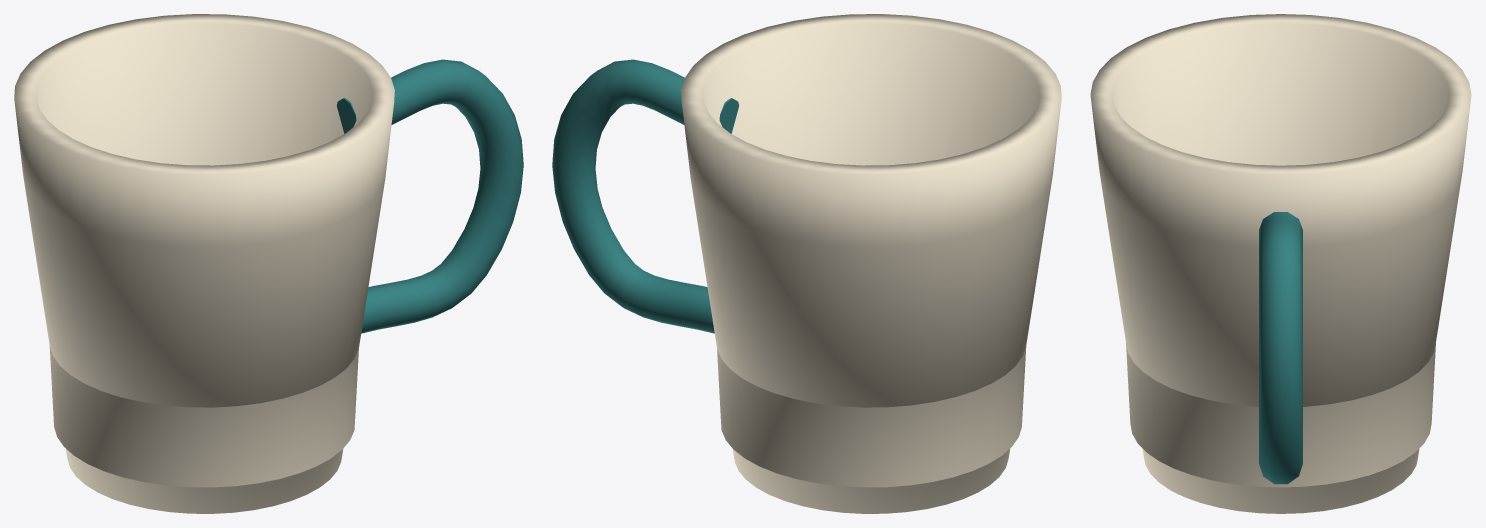
File: Cup.fbx
The picture shows the model from 3 angles, left to right: view 1: azimuth 30°, elevation 25°; view 2: azimuth 150°, elevation 25°; view 3: azimuth 270°, elevation 25°; orthographic projection.
Visible parts, largest first — view 1: Surface_KKTC_Ceramic, Surface_KKTC_CanvasTeal; view 2: Surface_KKTC_Ceramic, Surface_KKTC_CanvasTeal; view 3: Surface_KKTC_Ceramic, Surface_KKTC_CanvasTeal.
Boxes of the visible parts, x1,y1,x2,y2 form: Surface_KKTC_Ceramic: (14, 14, 394, 513); Surface_KKTC_CanvasTeal: (337, 59, 523, 333); Surface_KKTC_Ceramic: (681, 14, 1061, 513); Surface_KKTC_CanvasTeal: (552, 59, 738, 333); Surface_KKTC_Ceramic: (1090, 14, 1471, 513); Surface_KKTC_CanvasTeal: (1259, 212, 1302, 484).
Bounding box in the file's own units: 12.53 × 9 × 8.6.
